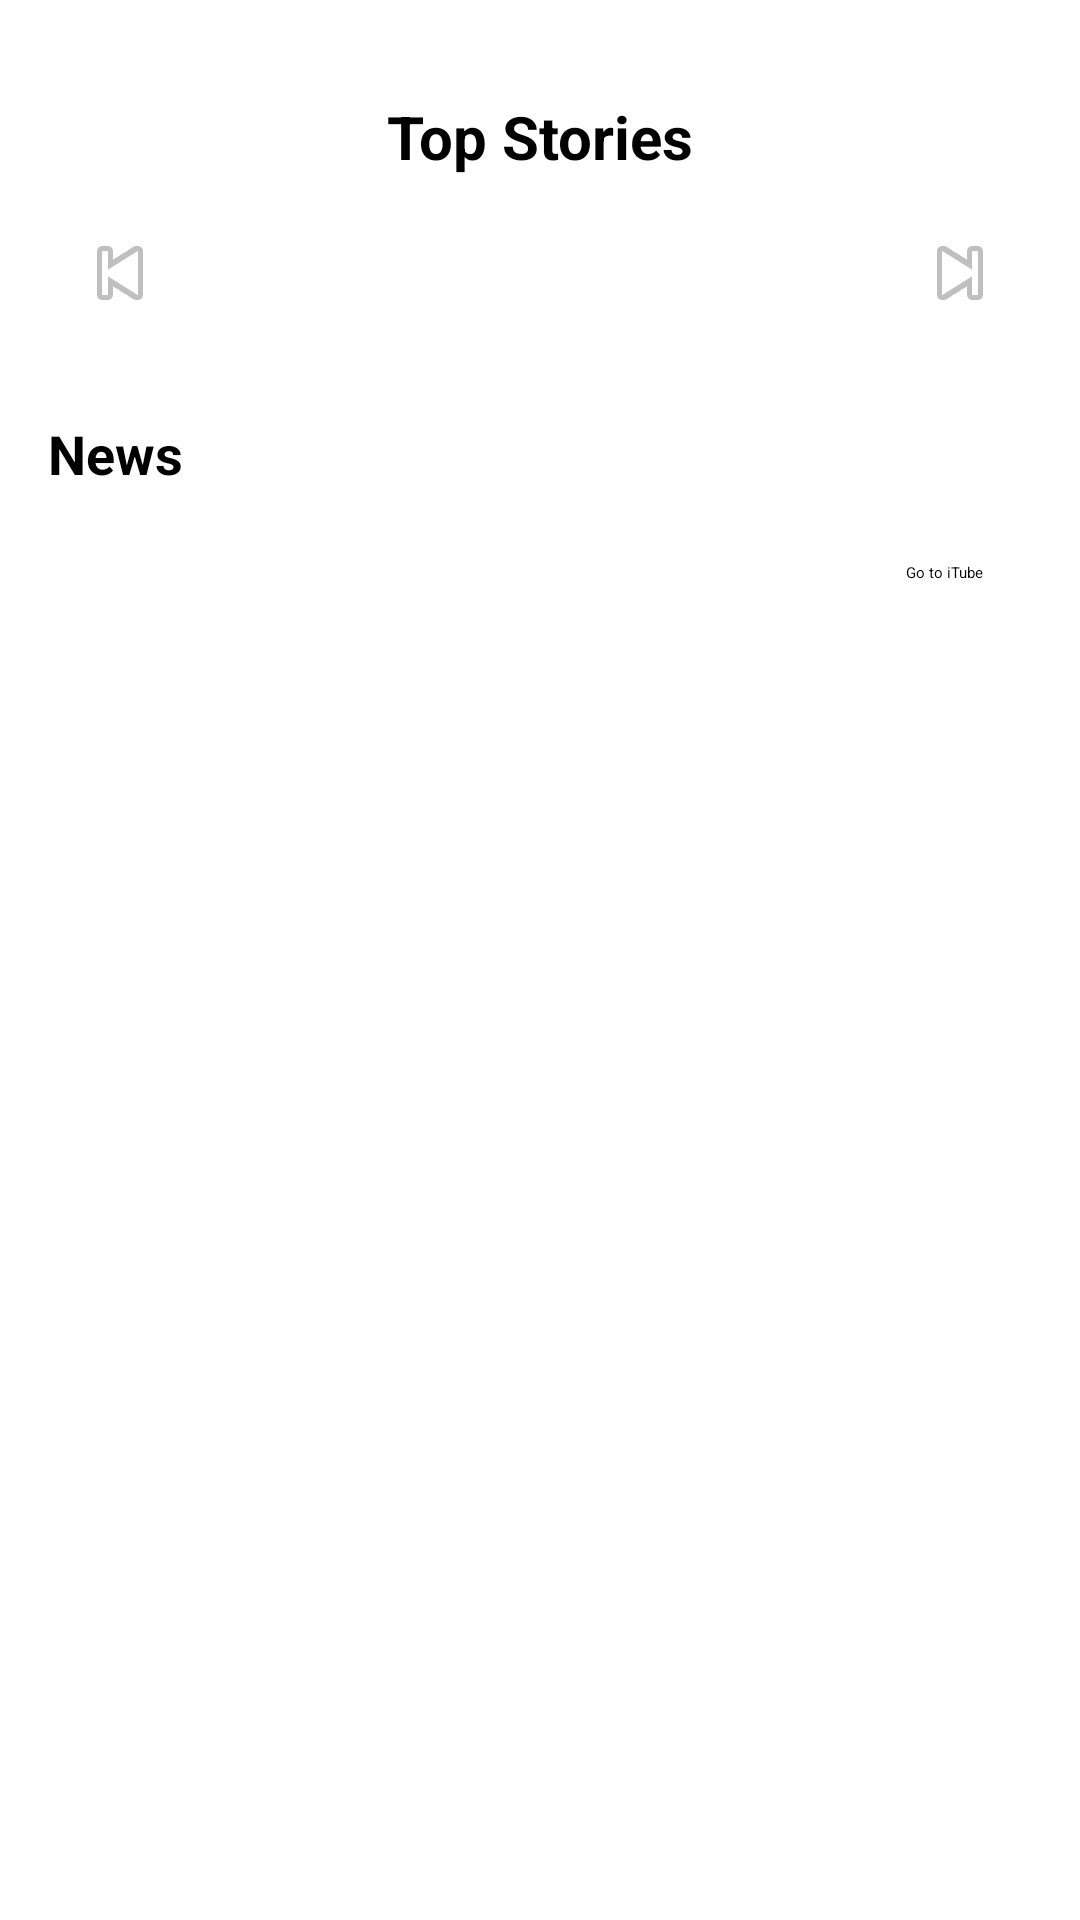

Icons on this 1080*1920 Android screen, each with the point to tap as (x,y):
Left Scroll Button: (120,273)
Right Scroll Button: (960,273)
